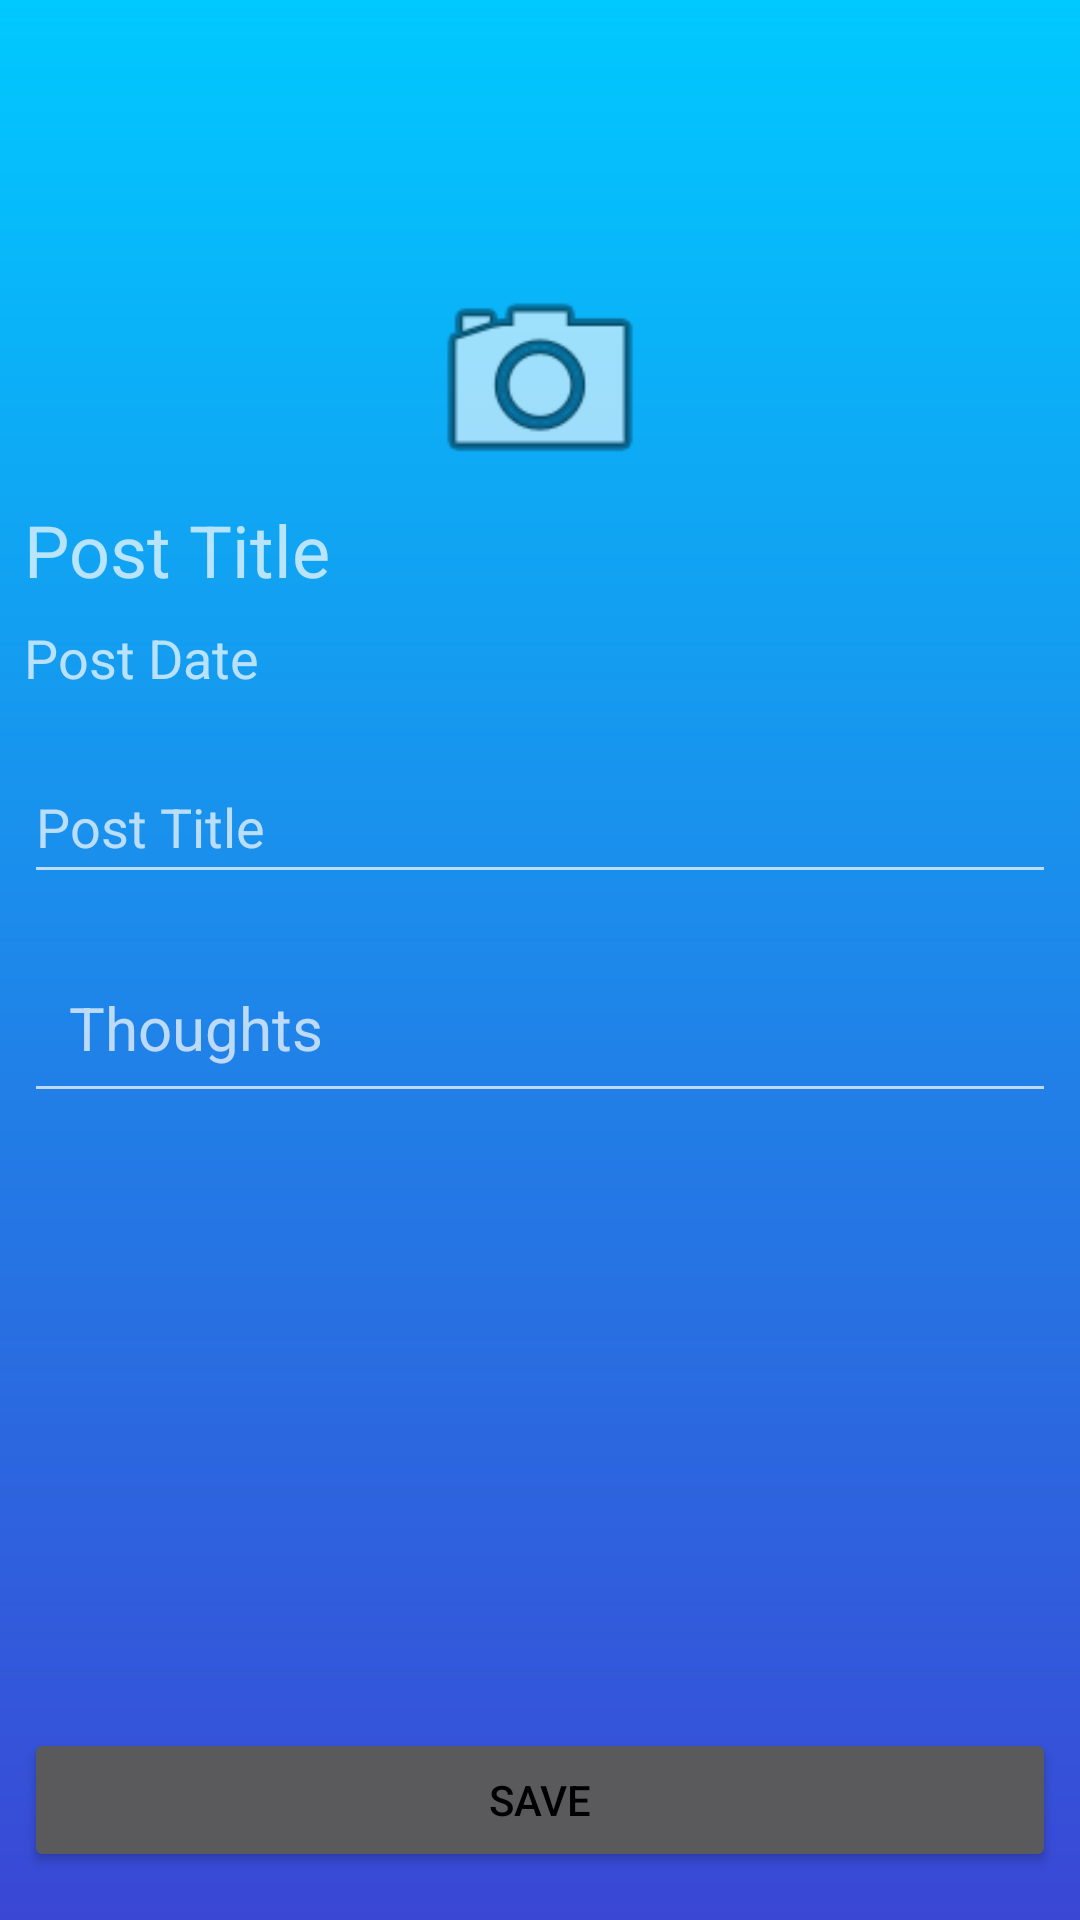

Icon click points for this 1080 x 1920 phone screenshot, format point (x, y):
camera: point (540, 377)
